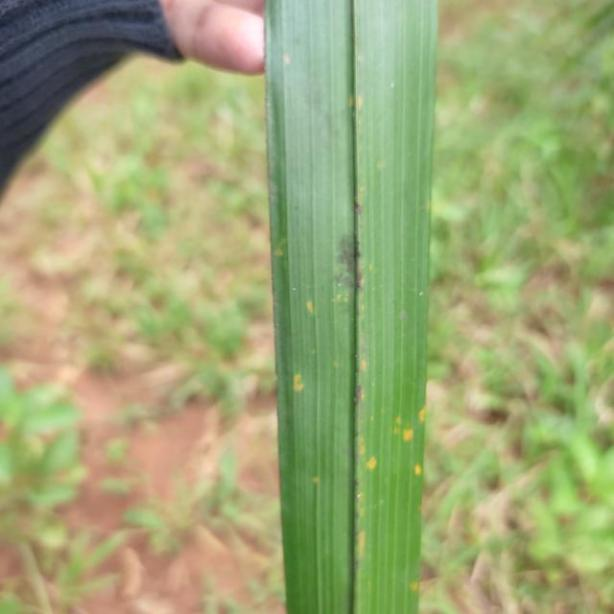Kalium: (262, 0, 443, 614)
